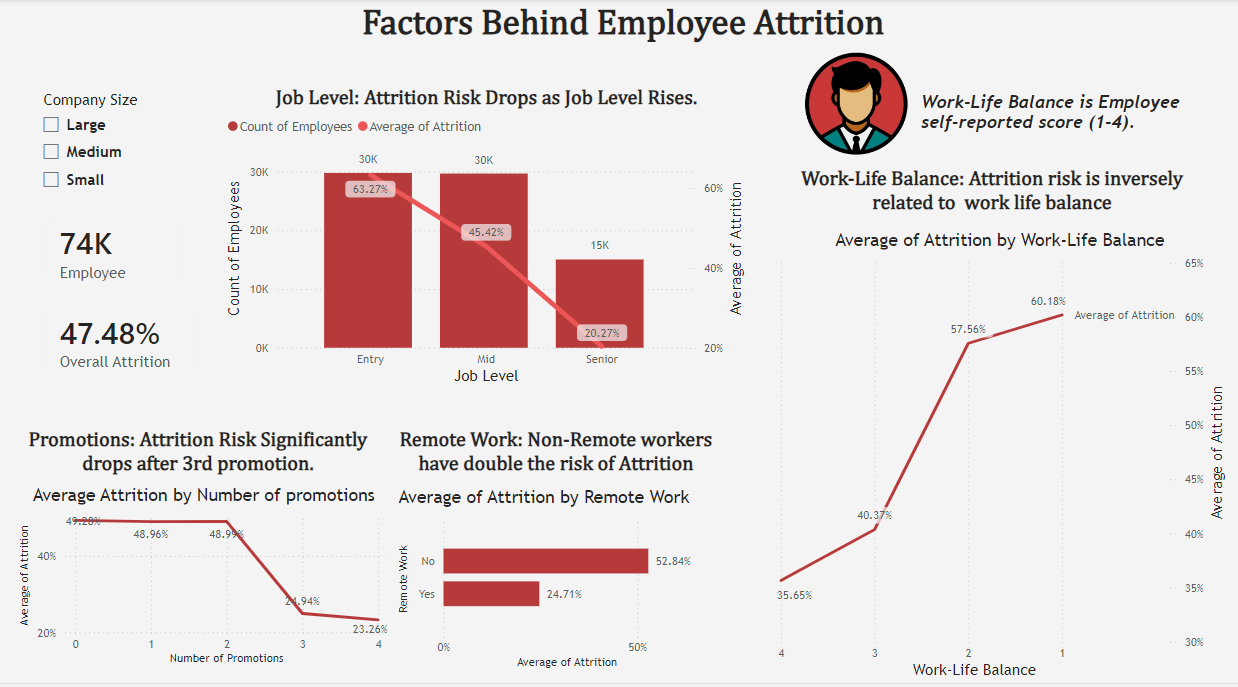

Layout of this report page (visuals, bound fields, positions):
{"tool":"powerbi","page":{"name":"Page 1","canvas":[1280,720],"ordinal":0},"visuals":[{"type":"lineClusteredColumnComboChart","fields":{"Y2":["Avg(Dataset.Attrition)"],"Category":["Dataset.Work-Life Balance"]},"box":[793.6,242.1,486.7,478.1],"z":0,"group":"g2"},{"type":"cardVisual","fields":{"Data":["Avg(Dataset.Attrition)"]},"box":[17.1,309.4,188.3,99],"z":0},{"type":"lineChart","title":"Average Attrition by Number of promotions","fields":{"Category":["Dataset.Number of Promotions"],"Y":["Avg(Dataset.Attrition)"]},"box":[0,511.3,397.5,195],"z":0,"group":"g1"},{"type":"textbox","box":[0,0,1280.3,79.5],"z":1000},{"type":"textbox","box":[799.4,172.4,459.6,69.7],"z":1000,"group":"g2"},{"type":"textbox","box":[0,447.5,385,63.8],"z":1000,"group":"g1"},{"type":"cardVisual","fields":{"Data":["Count(Dataset.Employee ID)"]},"box":[17.1,214,174.9,100.3],"z":2000},{"type":"group","id":"g1","title":"Group 2","box":[0,447.5,397.5,258.8],"z":3000},{"type":"barChart","fields":{"Category":["Dataset.Remote Work"],"Y":["Avg(Dataset.Attrition)"]},"box":[399.3,513.2,328,196.2],"z":4000},{"type":"lineClusteredColumnComboChart","title":"Job Level: Attrition Risk Drops as Job Level Rises.","fields":{"Category":["Dataset.Job Level"],"Y":["Count(Dataset.Employee ID)"],"Y2":["Avg(Dataset.Attrition)"]},"box":[218.2,91.9,555.7,318.4],"z":5000},{"type":"textbox","box":[385.6,447.3,367.8,65.9],"z":6000},{"type":"slicer","fields":{"Values":["Dataset.Company Size"]},"box":[17.1,91.7,188.3,122.3],"z":7000},{"type":"group","id":"g2","title":"Group 1","box":[793.6,172.4,486.7,547.8],"z":8000},{"type":"textbox","box":[948.9,91.7,320.4,59.9],"z":9000},{"type":"image","box":[831.5,56.3,107.6,107.6],"z":10000}]}

Visuals, with their boxes in screenshot pixels (x1, y1, x2, y2), scaled from the page's 1280x720 canvas onto the 1238x687 screenshot:
lineClusteredColumnComboChart - Avg(Dataset.Attrition) x Dataset.Work-Life Balance: (768, 231, 1237, 686)
cardVisual - Avg(Dataset.Attrition): (17, 295, 199, 390)
"Average Attrition by Number of promotions" lineChart: (0, 488, 384, 674)
textbox: (0, 0, 1237, 76)
textbox: (773, 164, 1218, 231)
textbox: (0, 427, 372, 488)
cardVisual - Count(Dataset.Employee ID): (17, 204, 186, 300)
"Group 2" group: (0, 427, 384, 674)
barChart - Dataset.Remote Work x Avg(Dataset.Attrition): (386, 490, 703, 677)
"Job Level: Attrition Risk Drops as Job Level Rises." lineClusteredColumnComboChart: (211, 88, 749, 391)
textbox: (373, 427, 729, 490)
slicer - Dataset.Company Size: (17, 87, 199, 204)
"Group 1" group: (768, 164, 1237, 686)
textbox: (918, 87, 1228, 145)
image: (804, 54, 908, 156)
